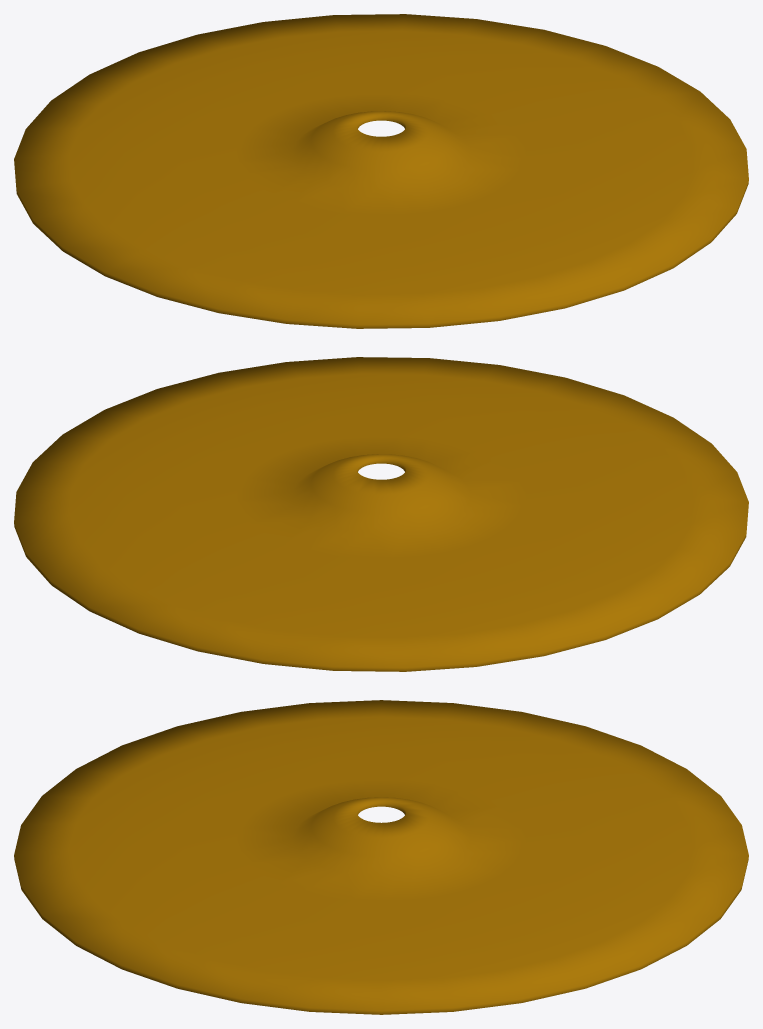
The model's file is 2d44ab30-ffe7-4ad4-8b5b-7f4ff66e1aac.glb.
The picture shows the model from 3 angles, top to bottom: view 1: azimuth 30°, elevation 25°; view 2: azimuth 150°, elevation 25°; view 3: azimuth 270°, elevation 25°; orthographic projection.
Visible parts, largest first — view 1: Sphere; view 2: Sphere; view 3: Sphere.
Boxes of the visible parts, x1,y1,x2,y2 form: Sphere: (14,14,748,328); Sphere: (14,357,748,671); Sphere: (14,700,748,1014).
Bounding box in the file's own units: 0.3776 × 0.0268 × 0.3776.
